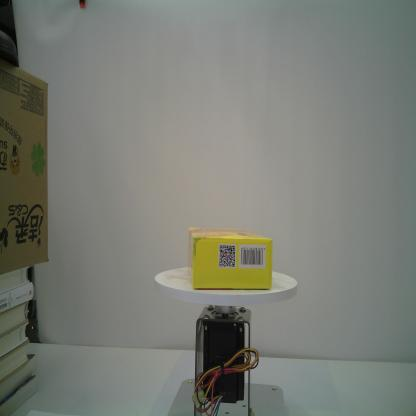Dessert: (185, 226, 274, 290)
